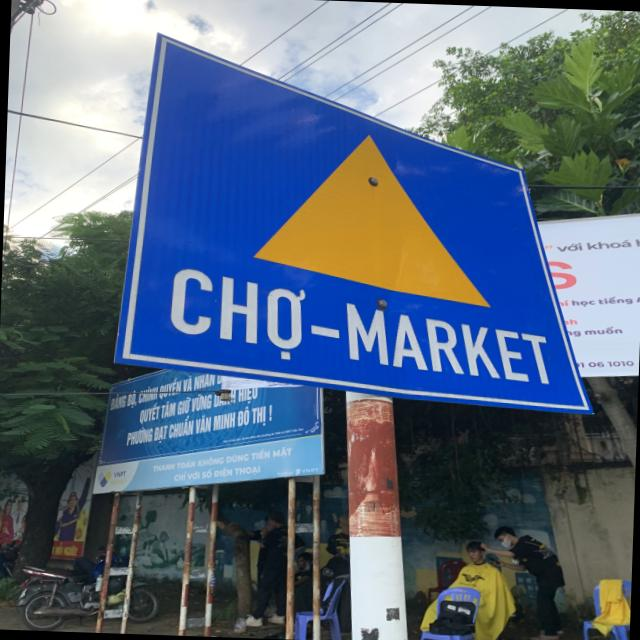Cho_Quay_Xe: (129, 33, 596, 410)
